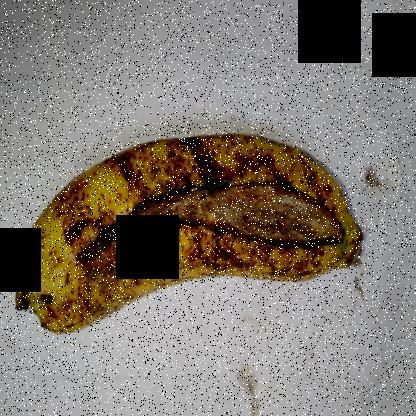rotten: (66, 136, 338, 282)
